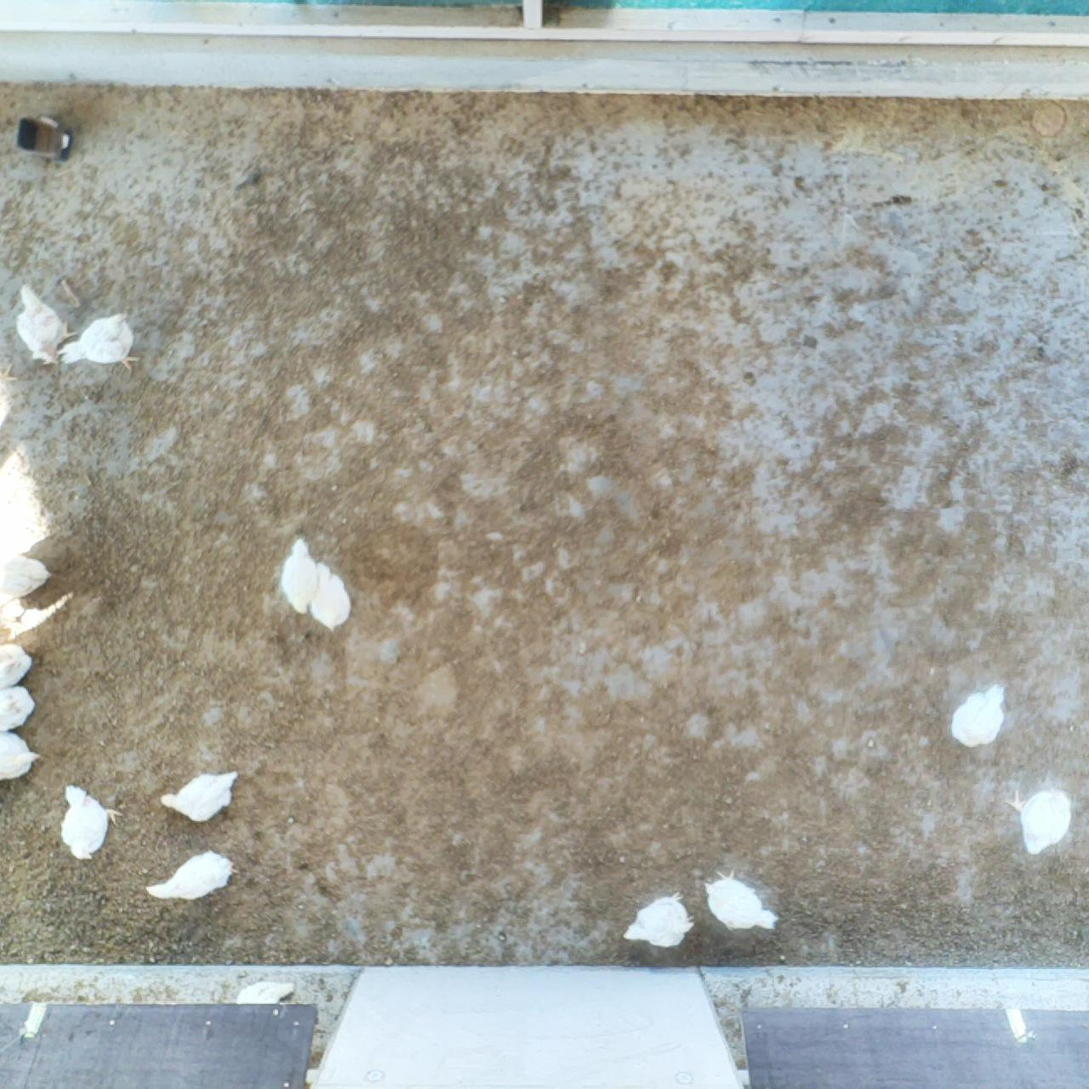chicken: (56, 777, 132, 866), (14, 281, 88, 367), (59, 307, 145, 379), (701, 869, 783, 934), (155, 767, 245, 826), (143, 850, 236, 905), (1007, 785, 1071, 857), (948, 677, 1010, 750), (617, 890, 699, 943), (305, 556, 355, 635), (0, 548, 58, 608), (277, 534, 314, 613), (0, 726, 48, 780), (0, 678, 44, 735), (0, 641, 39, 692)
